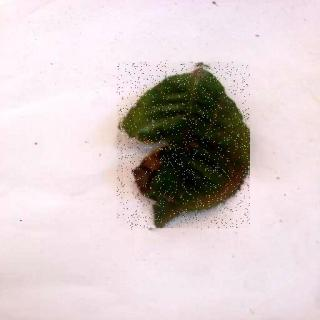Brown Blight: (119, 63, 252, 231)
